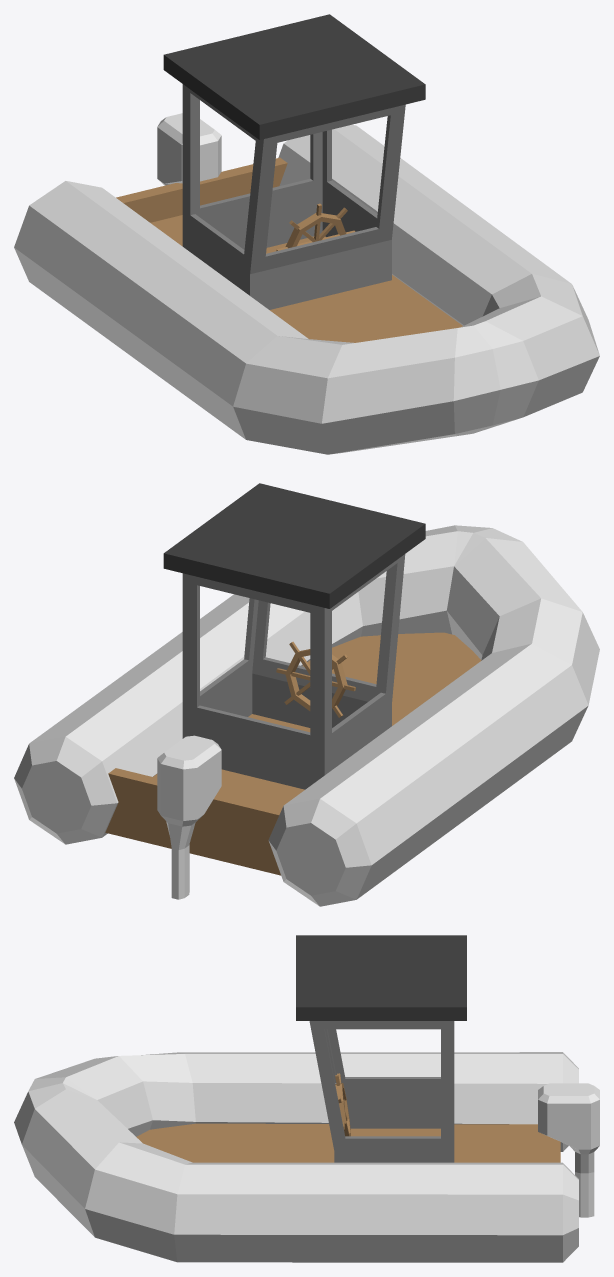
File: bateau.fbx
3 views of the same model, one above another, from view 1: azimuth 30°, elevation 25°; view 2: azimuth 150°, elevation 25°; view 3: azimuth 270°, elevation 25° (orthographic). The views are drawn at different scales.
Parts seen in each view (by area): view 1: Circle.001; view 2: Circle.001; view 3: Circle.001.
Part boxes in pixels (x1,y1,x2,y2): Circle.001: [14, 14, 599, 454]; Circle.001: [14, 483, 599, 906]; Circle.001: [14, 935, 599, 1262].
Size of the model in its own units: 269 by 196 by 429.
